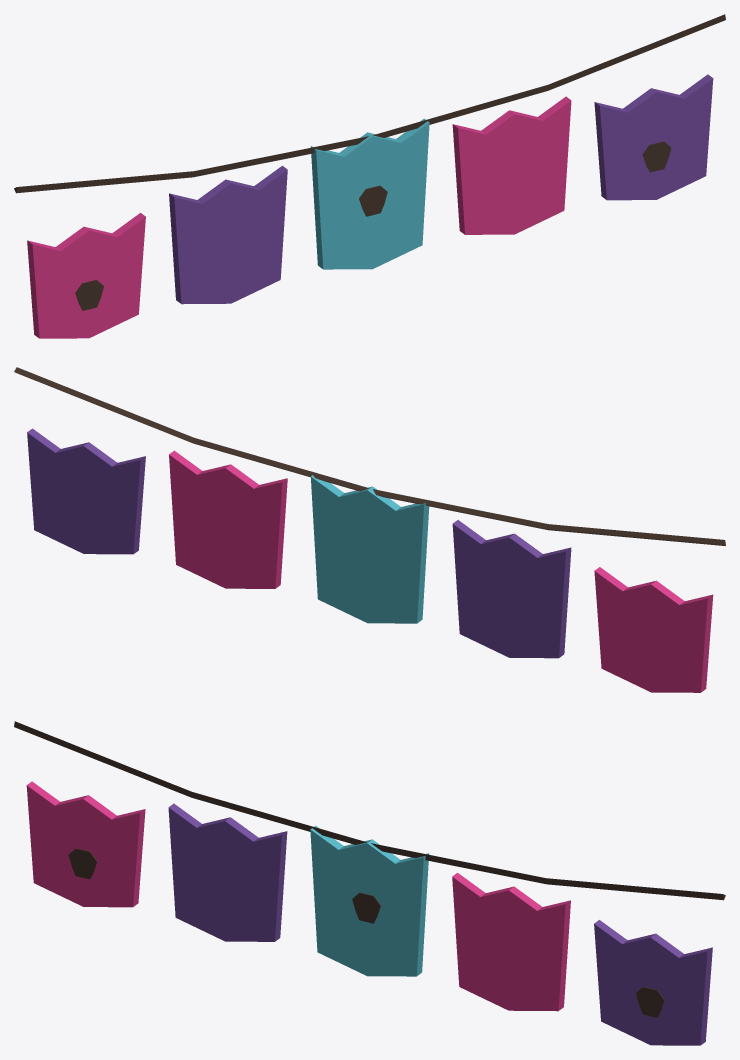
File: papel_picado_string.glb
The picture shows the model from 3 angles, top to bottom: view 1: azimuth 30°, elevation 25°; view 2: azimuth 150°, elevation 25°; view 3: azimuth 330°, elevation 25°; orthographic projection.
Parts seen in each view (by area): view 1: Banderín festoneado.002, Banderín festoneado.003, Banderín festoneado.001, Banderín festoneado.004, Banderín festoneado, Cordel, Calado calavera, Calado calavera.002, Calado calavera.001; view 2: Banderín festoneado.002, Banderín festoneado.001, Banderín festoneado.003, Banderín festoneado.004, Banderín festoneado, Cordel; view 3: Banderín festoneado.002, Banderín festoneado.001, Banderín festoneado.003, Banderín festoneado, Banderín festoneado.004, Cordel, Calado calavera.002, Calado calavera, Calado calavera.001.
Part boxes in pixels (<box>): Banderín festoneado.002: <box>310,118,429,269</box>; Banderín festoneado.003: <box>452,96,571,234</box>; Banderín festoneado.001: <box>169,165,287,304</box>; Banderín festoneado.004: <box>594,74,713,200</box>; Banderín festoneado: <box>27,213,145,338</box>; Cordel: <box>14,14,725,193</box>; Calado calavera: <box>75,280,103,310</box>; Calado calavera.002: <box>642,141,671,172</box>; Calado calavera.001: <box>359,185,387,216</box>; Banderín festoneado.002: <box>310,472,429,623</box>; Banderín festoneado.001: <box>452,520,571,658</box>; Banderín festoneado.003: <box>169,450,287,588</box>; Banderín festoneado.004: <box>27,428,145,554</box>; Banderín festoneado: <box>594,567,713,692</box>; Cordel: <box>14,367,725,545</box>; Banderín festoneado.002: <box>310,825,429,976</box>; Banderín festoneado.001: <box>168,803,287,941</box>; Banderín festoneado.003: <box>452,872,570,1011</box>; Banderín festoneado: <box>26,781,145,907</box>; Banderín festoneado.004: <box>594,920,712,1045</box>; Cordel: <box>14,721,725,900</box>; Calado calavera.002: <box>636,987,664,1017</box>; Calado calavera: <box>68,848,97,879</box>; Calado calavera.001: <box>352,892,380,923</box>.
Bounding box in the file's own units: 2 × 0.45 × 0.03.
